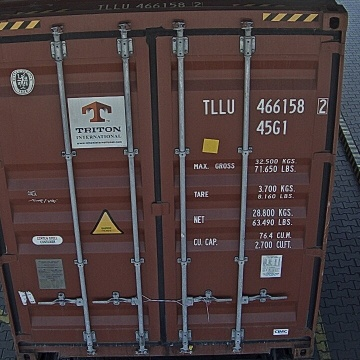serial_id: (203, 98, 327, 114)
